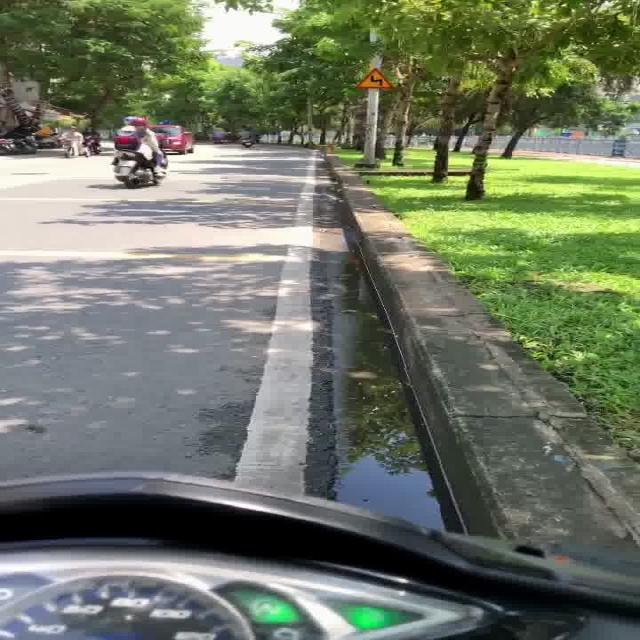Bien bao nhieu cho ngoat nguy hiem lien tiep: (352, 64, 402, 90)
